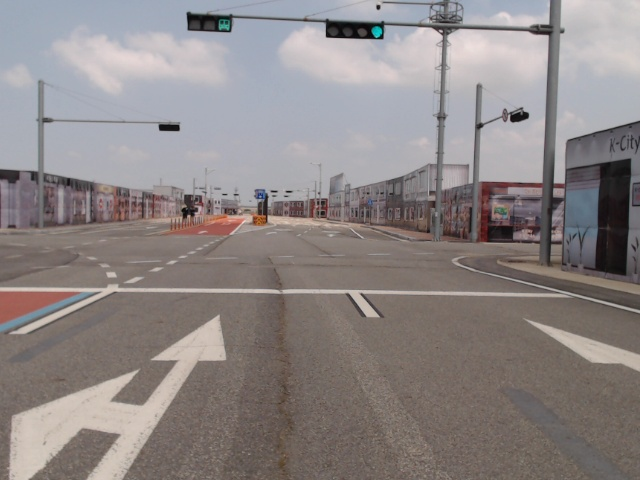straight_green_4: (325, 21, 384, 40)
